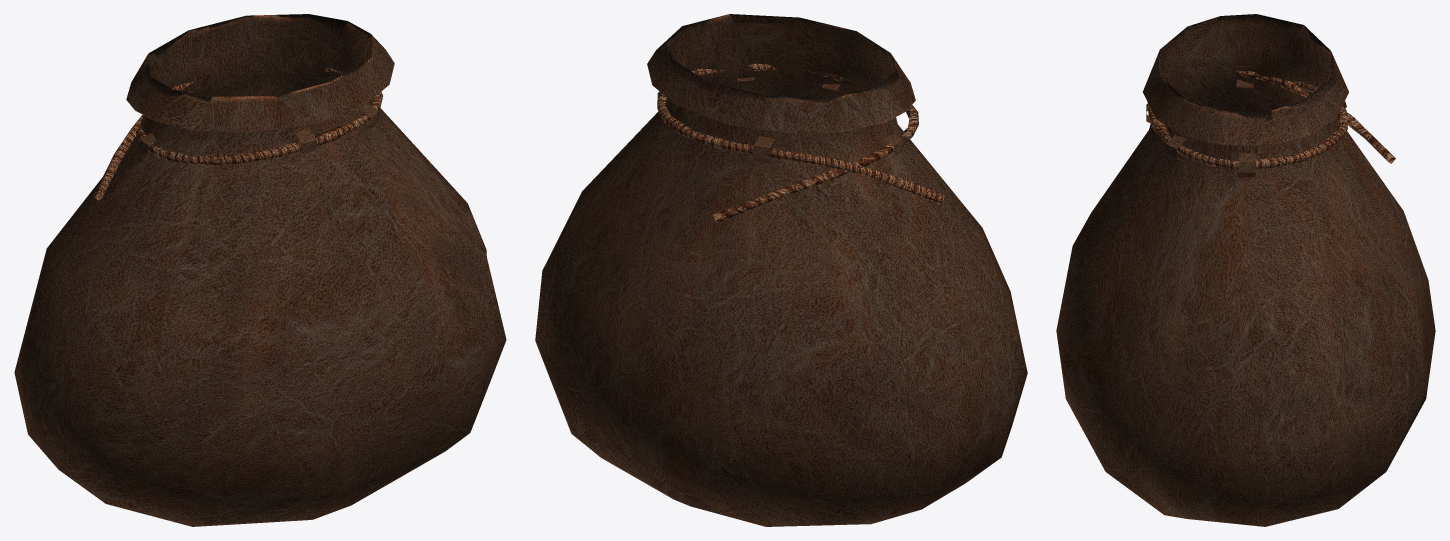
The model's file is purse.gltf.
The picture shows the model from 3 angles, left to right: view 1: azimuth 30°, elevation 25°; view 2: azimuth 150°, elevation 25°; view 3: azimuth 270°, elevation 25°; orthographic projection. The views are drawn at different scales.
Visible parts, largest first — view 1: pursesimple; view 2: pursesimple; view 3: pursesimple.
Boxes of the visible parts, x1,y1,x2,y2 form: pursesimple: (14, 14, 506, 526); pursesimple: (535, 14, 1027, 526); pursesimple: (1056, 14, 1435, 526).
Size of the model in its own units: 1.62 by 1.46 by 1.22.
1 material, 1 textured.
